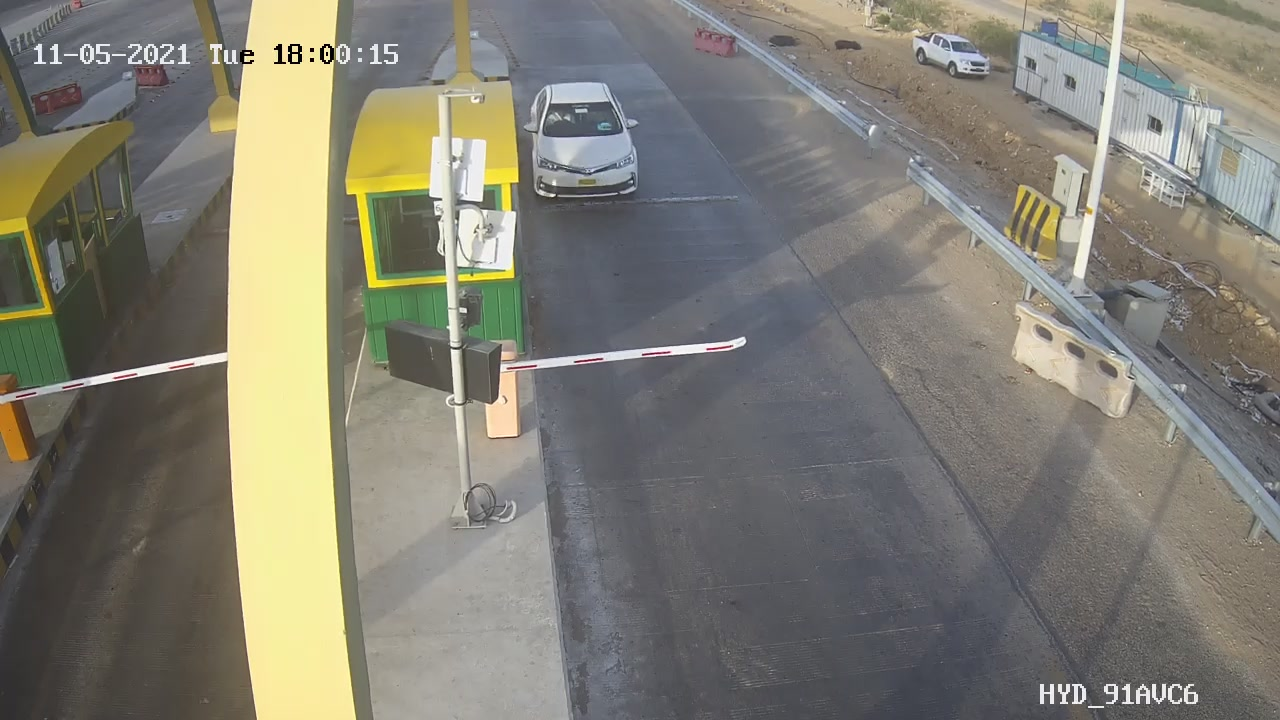F1: (521, 65, 648, 208)
